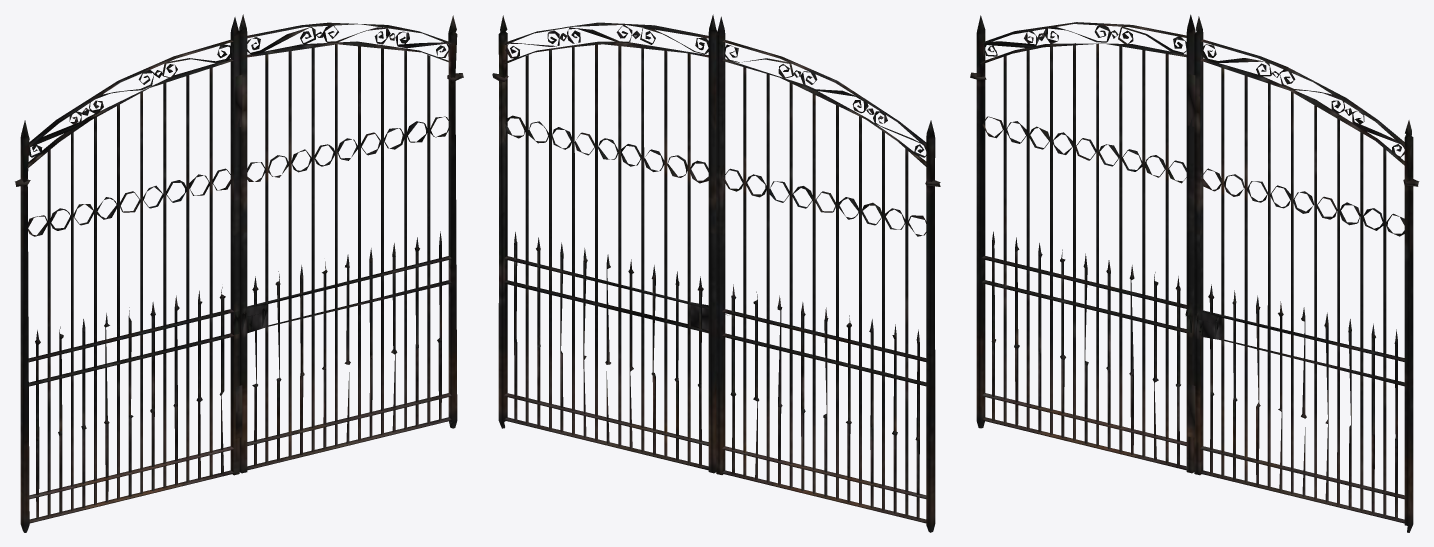
The model's file is gate-iron.lite.6e7119b3.glb.
The picture shows the model from 3 angles, left to right: view 1: azimuth 30°, elevation 25°; view 2: azimuth 150°, elevation 25°; view 3: azimuth 330°, elevation 25°; orthographic projection.
Visible parts, largest first — view 1: model; view 2: model; view 3: model.
Boxes of the visible parts, x1=… form: model: x1=15, y1=14, x2=463, y2=532; model: x1=492, y1=14, x2=940, y2=532; model: x1=970, y1=14, x2=1419, y2=532.
Size of the model in its own units: 2.95 by 2.93 by 0.0858.
1 material, 1 textured.
